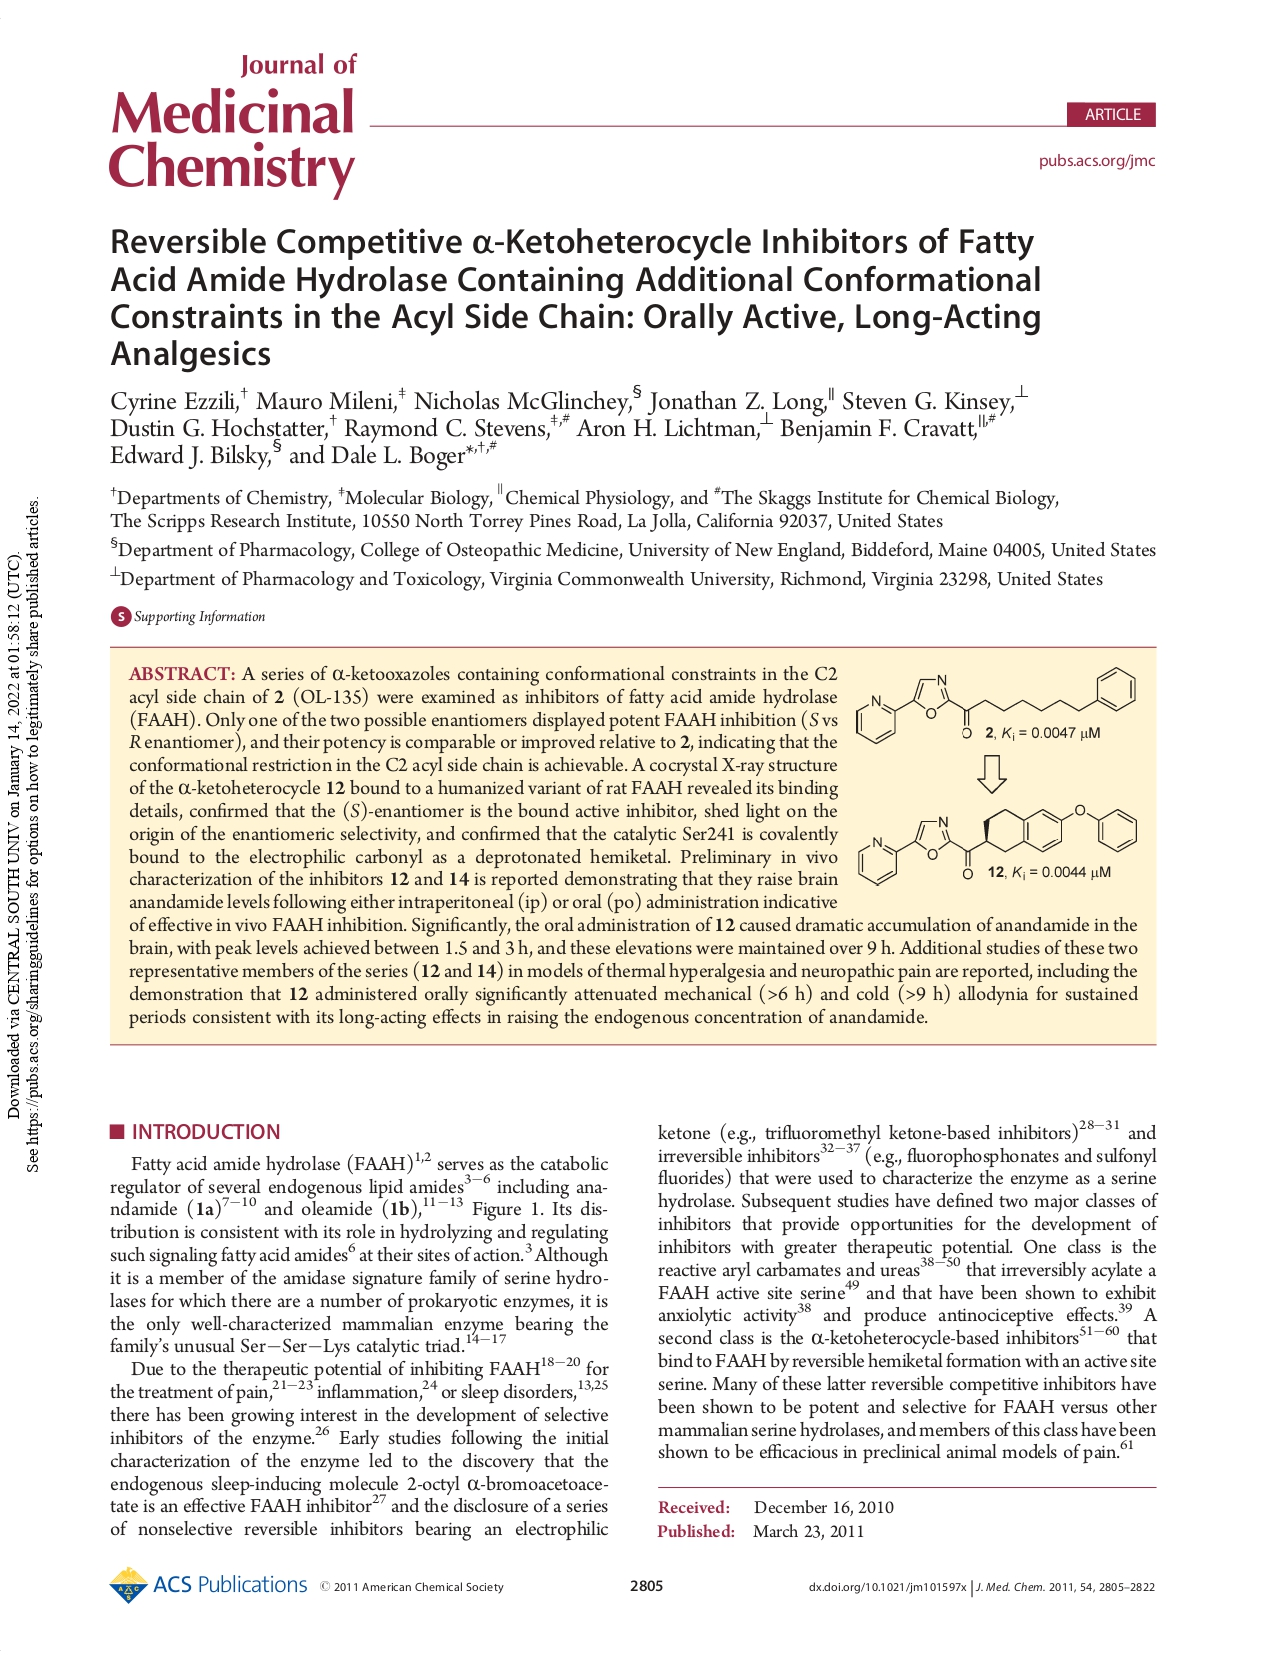exist_molecular: (852, 803, 1141, 891), (850, 664, 1138, 747)
